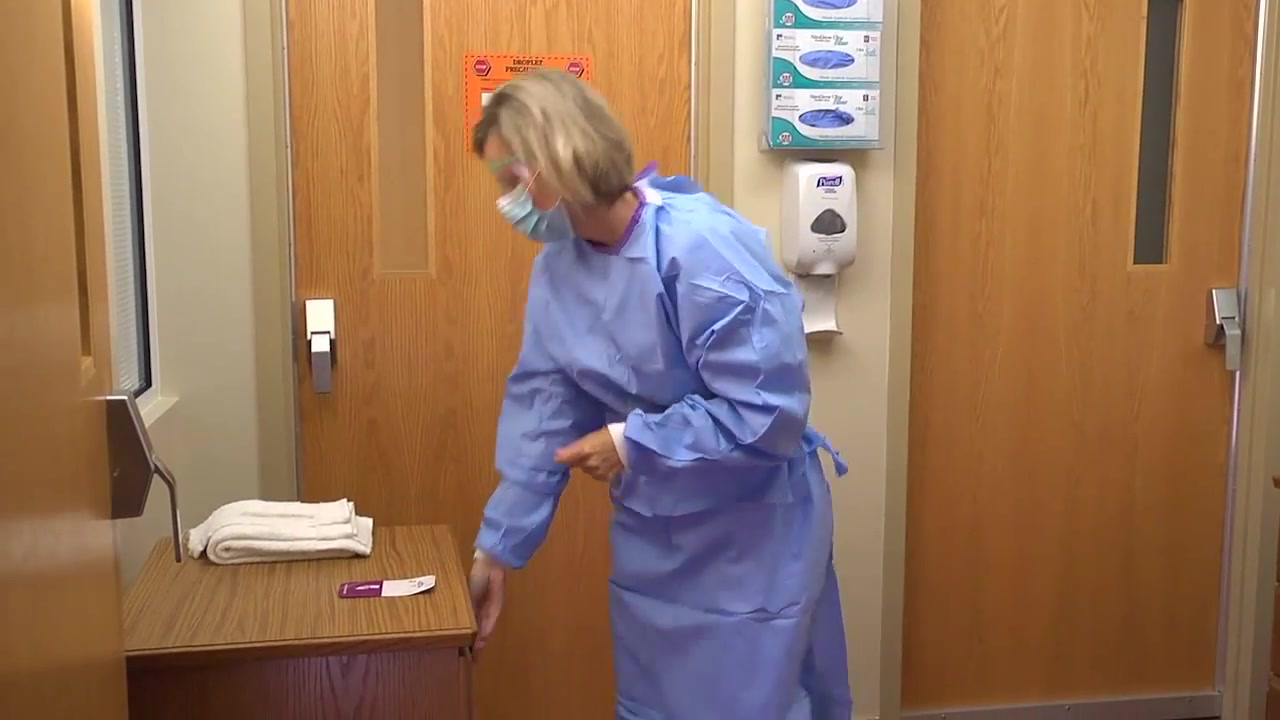Coverall: (481, 226, 886, 720)
with_mask: (481, 174, 566, 249)
